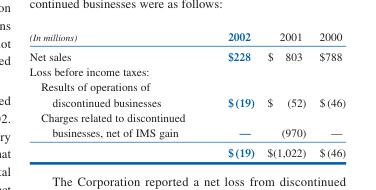table: (28, 29, 345, 158)
table column: (28, 29, 205, 158), (205, 29, 260, 158), (260, 29, 311, 158), (311, 29, 345, 158)
table column header: (28, 29, 345, 45)
table projected row header: (28, 63, 345, 78)
table row: (28, 109, 345, 141), (28, 78, 345, 109), (28, 45, 345, 63), (28, 141, 345, 158), (28, 29, 345, 45), (28, 63, 345, 78)
